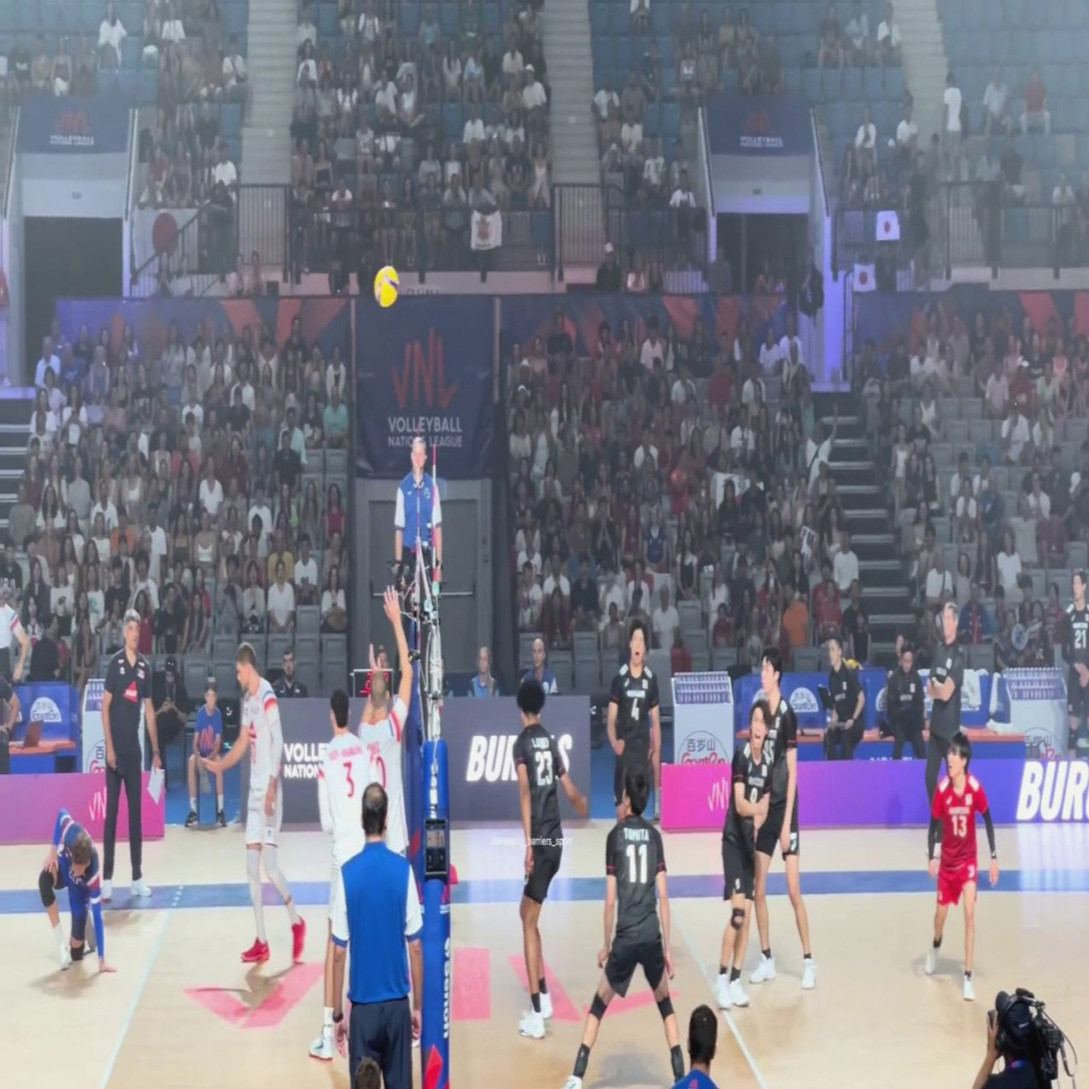ball: (373, 264, 399, 308)
